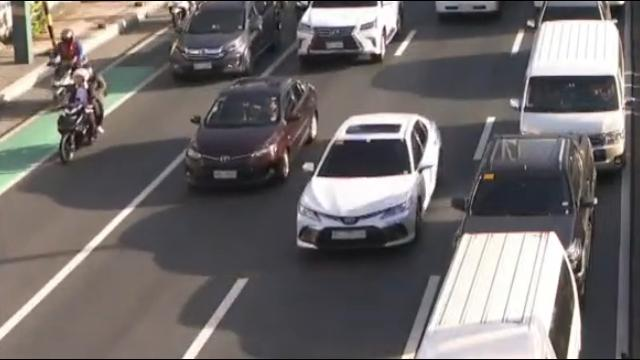car: (450, 132, 599, 304), (295, 113, 445, 252), (182, 76, 317, 189), (169, 0, 281, 81), (297, 0, 404, 64)
motorcycle: (59, 66, 105, 165), (49, 28, 86, 110)
van: (410, 231, 586, 360), (511, 20, 628, 178)
